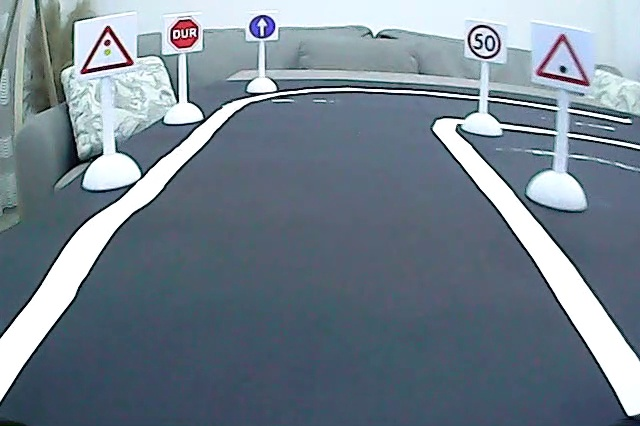green light: (532, 28, 593, 93)
red light: (76, 21, 137, 76)
speed limit 50: (464, 22, 503, 63)
stop sign: (167, 15, 203, 53)
